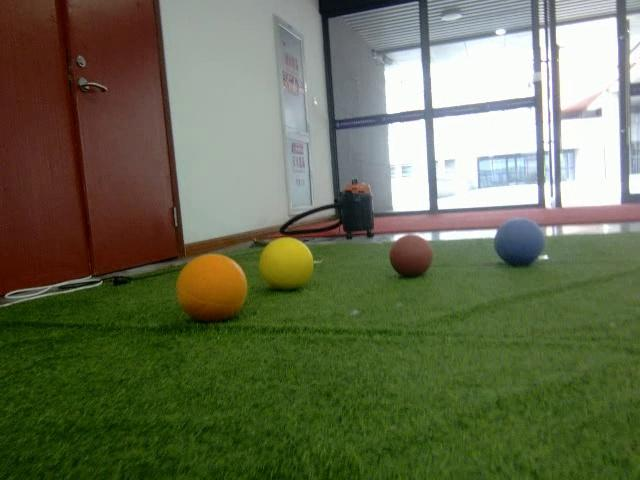blue_ball: (495, 217, 546, 268)
orange_ball: (175, 253, 247, 322)
red_ball: (389, 235, 434, 277)
yellow_ball: (257, 239, 313, 290)
